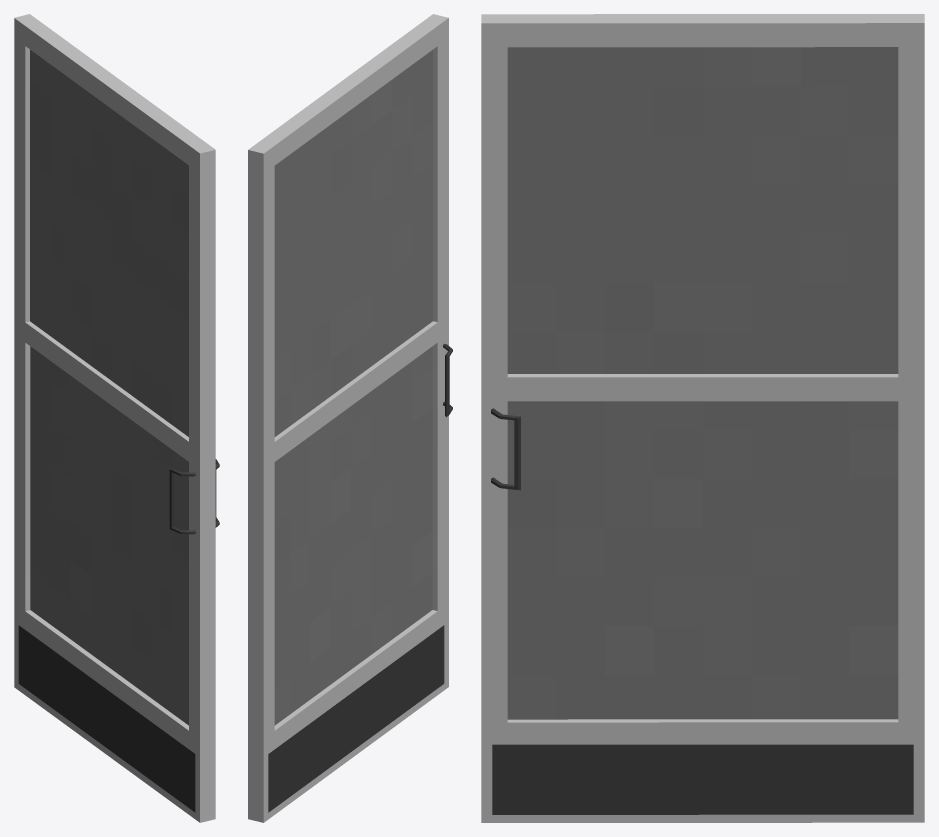
Rendered from SW_corridor__R_lobby_R_Aula_Ovi_2_Ikkunaa_006.FBX.
3 views of the same model, side by side, from view 1: azimuth 30°, elevation 25°; view 2: azimuth 150°, elevation 25°; view 3: azimuth 270°, elevation 25° (orthographic). The views are drawn at different scales.
Parts seen in each view (by area): view 1: SW_corridor__R_lobby_R_Aula_Ovi_2_Ikkunaa_006; view 2: SW_corridor__R_lobby_R_Aula_Ovi_2_Ikkunaa_006; view 3: SW_corridor__R_lobby_R_Aula_Ovi_2_Ikkunaa_006.
Part boxes in pixels (left/top/right/bottom): SW_corridor__R_lobby_R_Aula_Ovi_2_Ikkunaa_006: left=14, top=14, right=219, bottom=822; SW_corridor__R_lobby_R_Aula_Ovi_2_Ikkunaa_006: left=248, top=14, right=452, bottom=822; SW_corridor__R_lobby_R_Aula_Ovi_2_Ikkunaa_006: left=481, top=14, right=924, bottom=822.
Bounding box in the file's own units: 14.61 × 103 × 204.
